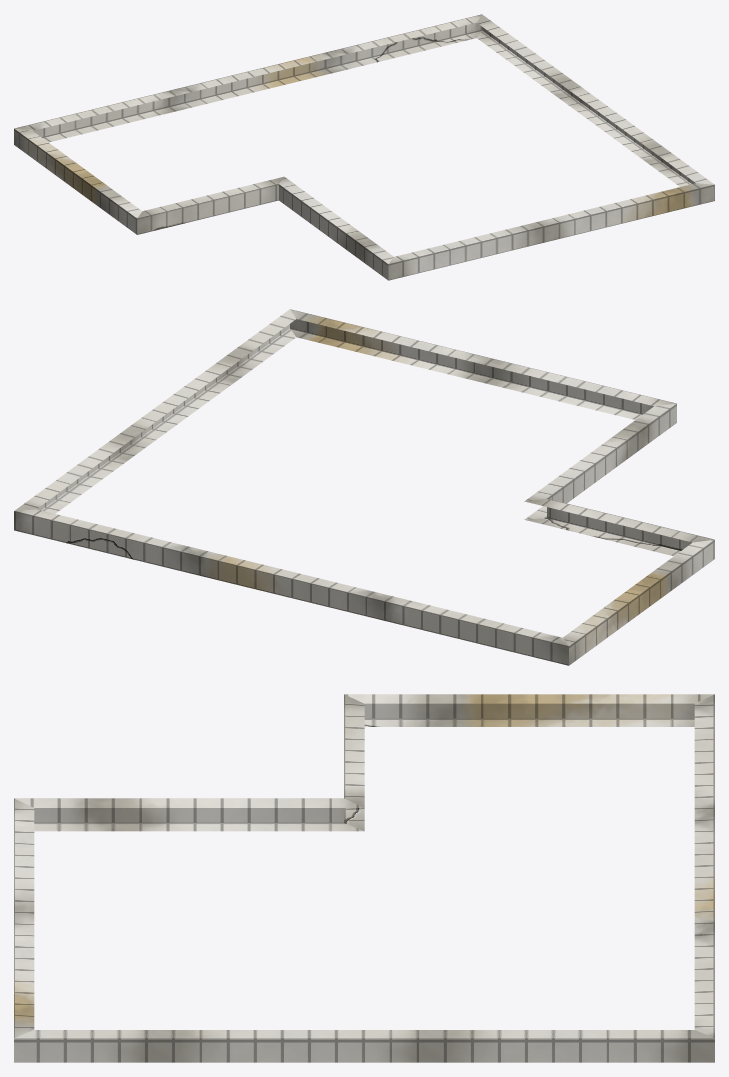
Rendered from TesteiraCasaLGrande 1.fbx.
3 renders of one model, top to bottom at view 1: azimuth 30°, elevation 25°; view 2: azimuth 150°, elevation 25°; view 3: azimuth 270°, elevation 25°, orthographic. The views are drawn at different scales.
Visible parts, largest first — view 1: TesteiraCasaLGrande; view 2: TesteiraCasaLGrande; view 3: TesteiraCasaLGrande.
Boxes of the visible parts, box(x1,y1,x2,y2) form: TesteiraCasaLGrande: box(14, 14, 714, 280); TesteiraCasaLGrande: box(14, 309, 714, 665); TesteiraCasaLGrande: box(14, 694, 714, 1062).
Size of the model in its own units: 2127 by 70.71 by 1832.
